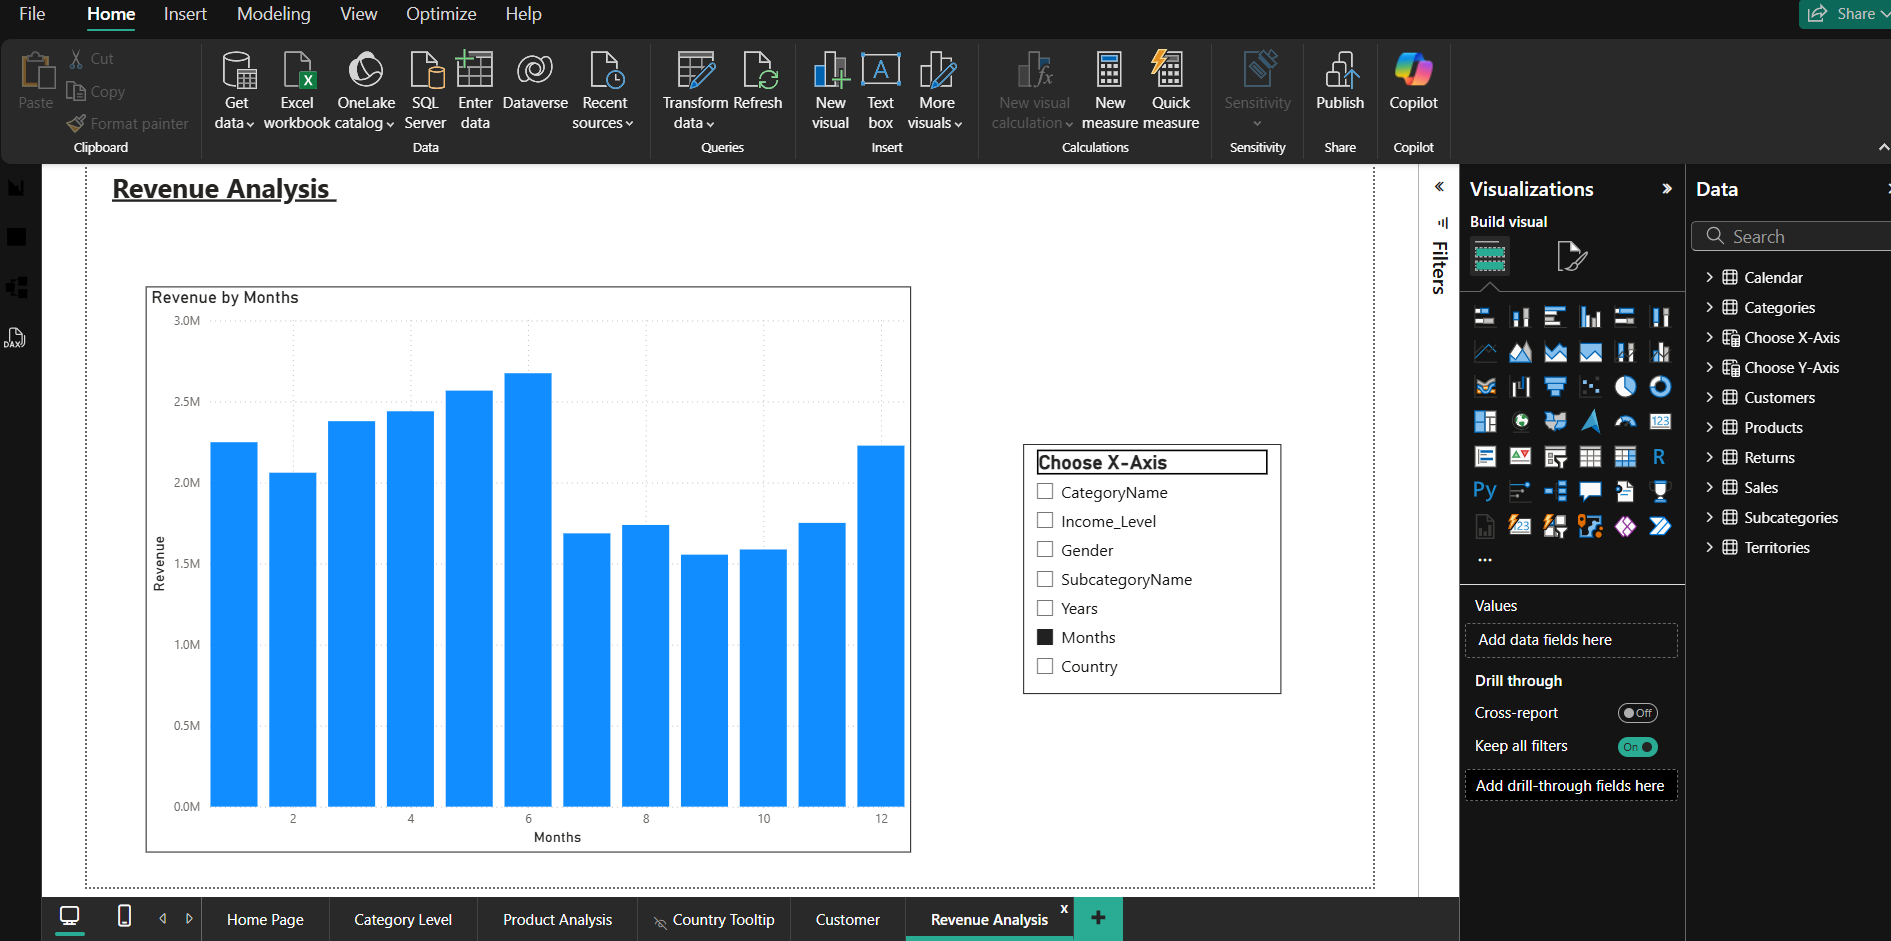

The page's visual inventory and layout, read from the dashboard file:
{"tool":"powerbi","page":{"name":"Revenue Analysis","canvas":[1280,720],"ordinal":5},"visuals":[{"type":"textbox","box":[20,0,254.3,77.1],"z":0},{"type":"clusteredColumnChart","fields":{"Category":["Sales.Months"],"Y":["Sales.Revenue"]},"box":[58.6,121.4,761.4,562.9],"z":1000},{"type":"slicer","fields":{"Values":["Choose X-Axis.Choose X-Axis"]},"box":[931.4,278.6,257.1,248.6],"z":2000}]}

Visuals, with their boxes on the page's 1280x720 design canvas (x1, y1, x2, y2). These are canvas units, not pixel positions in the 1891x941 screenshot, which may show the page scaled, cropped or inside an application window:
textbox: box(20, 0, 274, 77)
clusteredColumnChart - Sales.Months x Sales.Revenue: box(59, 121, 820, 684)
slicer - Choose X-Axis.Choose X-Axis: box(931, 279, 1188, 527)
